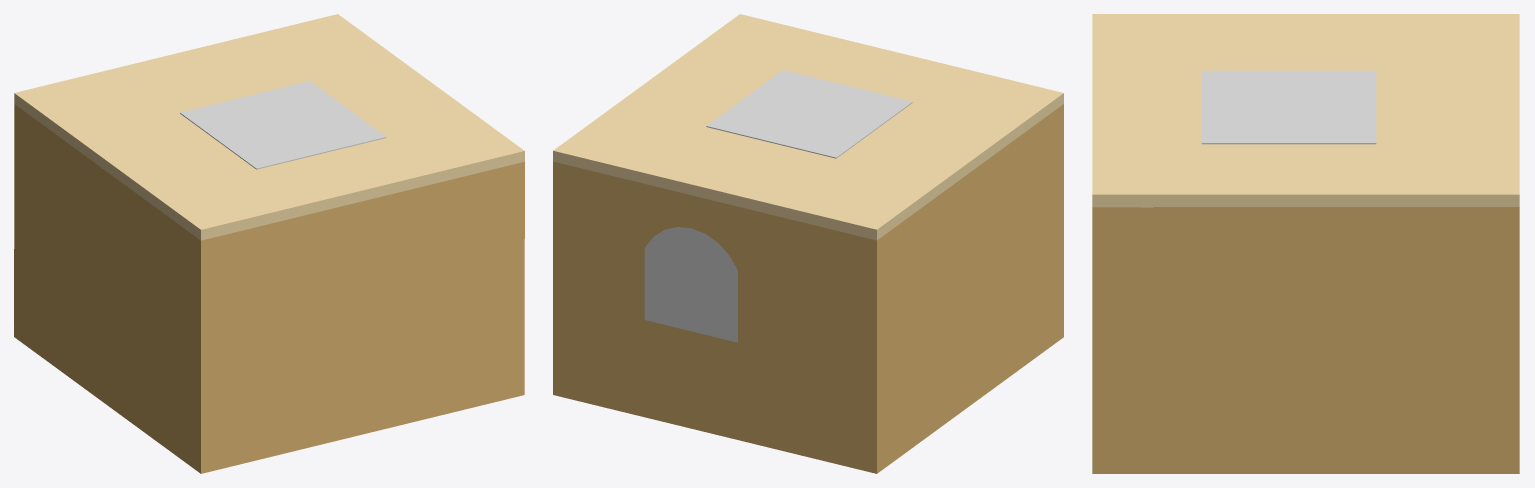
Rendered from FloorPlan25_physics.fbx.
3 views of the same model, side by side, from view 1: azimuth 30°, elevation 25°; view 2: azimuth 150°, elevation 25°; view 3: azimuth 270°, elevation 25° (orthographic). The views are drawn at different scales.
Parts seen in each view (by area): view 1: Room.027, Ceiling.003, Floor.003; view 2: Room.027, Ceiling.003, Window, Floor.003; view 3: Room.027, Ceiling.003, Floor.003.
Part boxes in pixels (x1,y1,x2,y2): Room.027: (14,104,524,461); Ceiling.003: (14,14,524,240); Floor.003: (14,325,524,473); Room.027: (553,104,1063,461); Ceiling.003: (553,14,1063,240); Window: (644,227,737,342); Floor.003: (553,325,1063,473); Room.027: (1092,207,1519,460); Ceiling.003: (1092,14,1519,207); Floor.003: (1092,460,1519,473).
Size of the model in its own units: 335 by 243 by 336.
